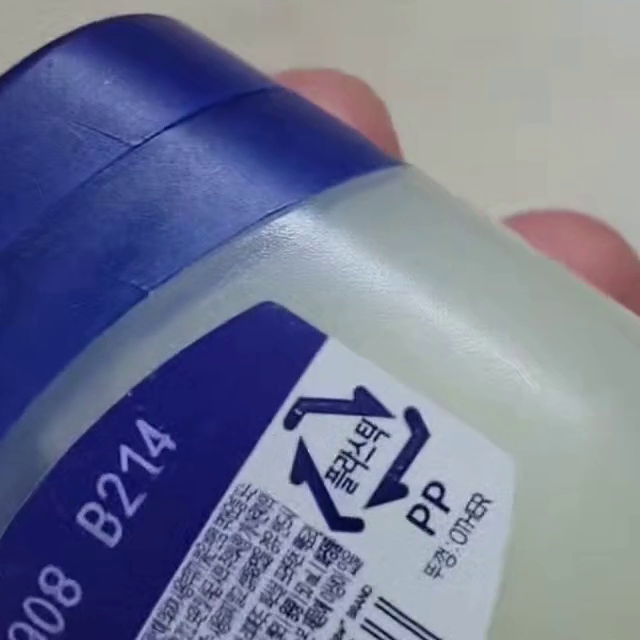Plastic: (282, 385, 429, 536)
